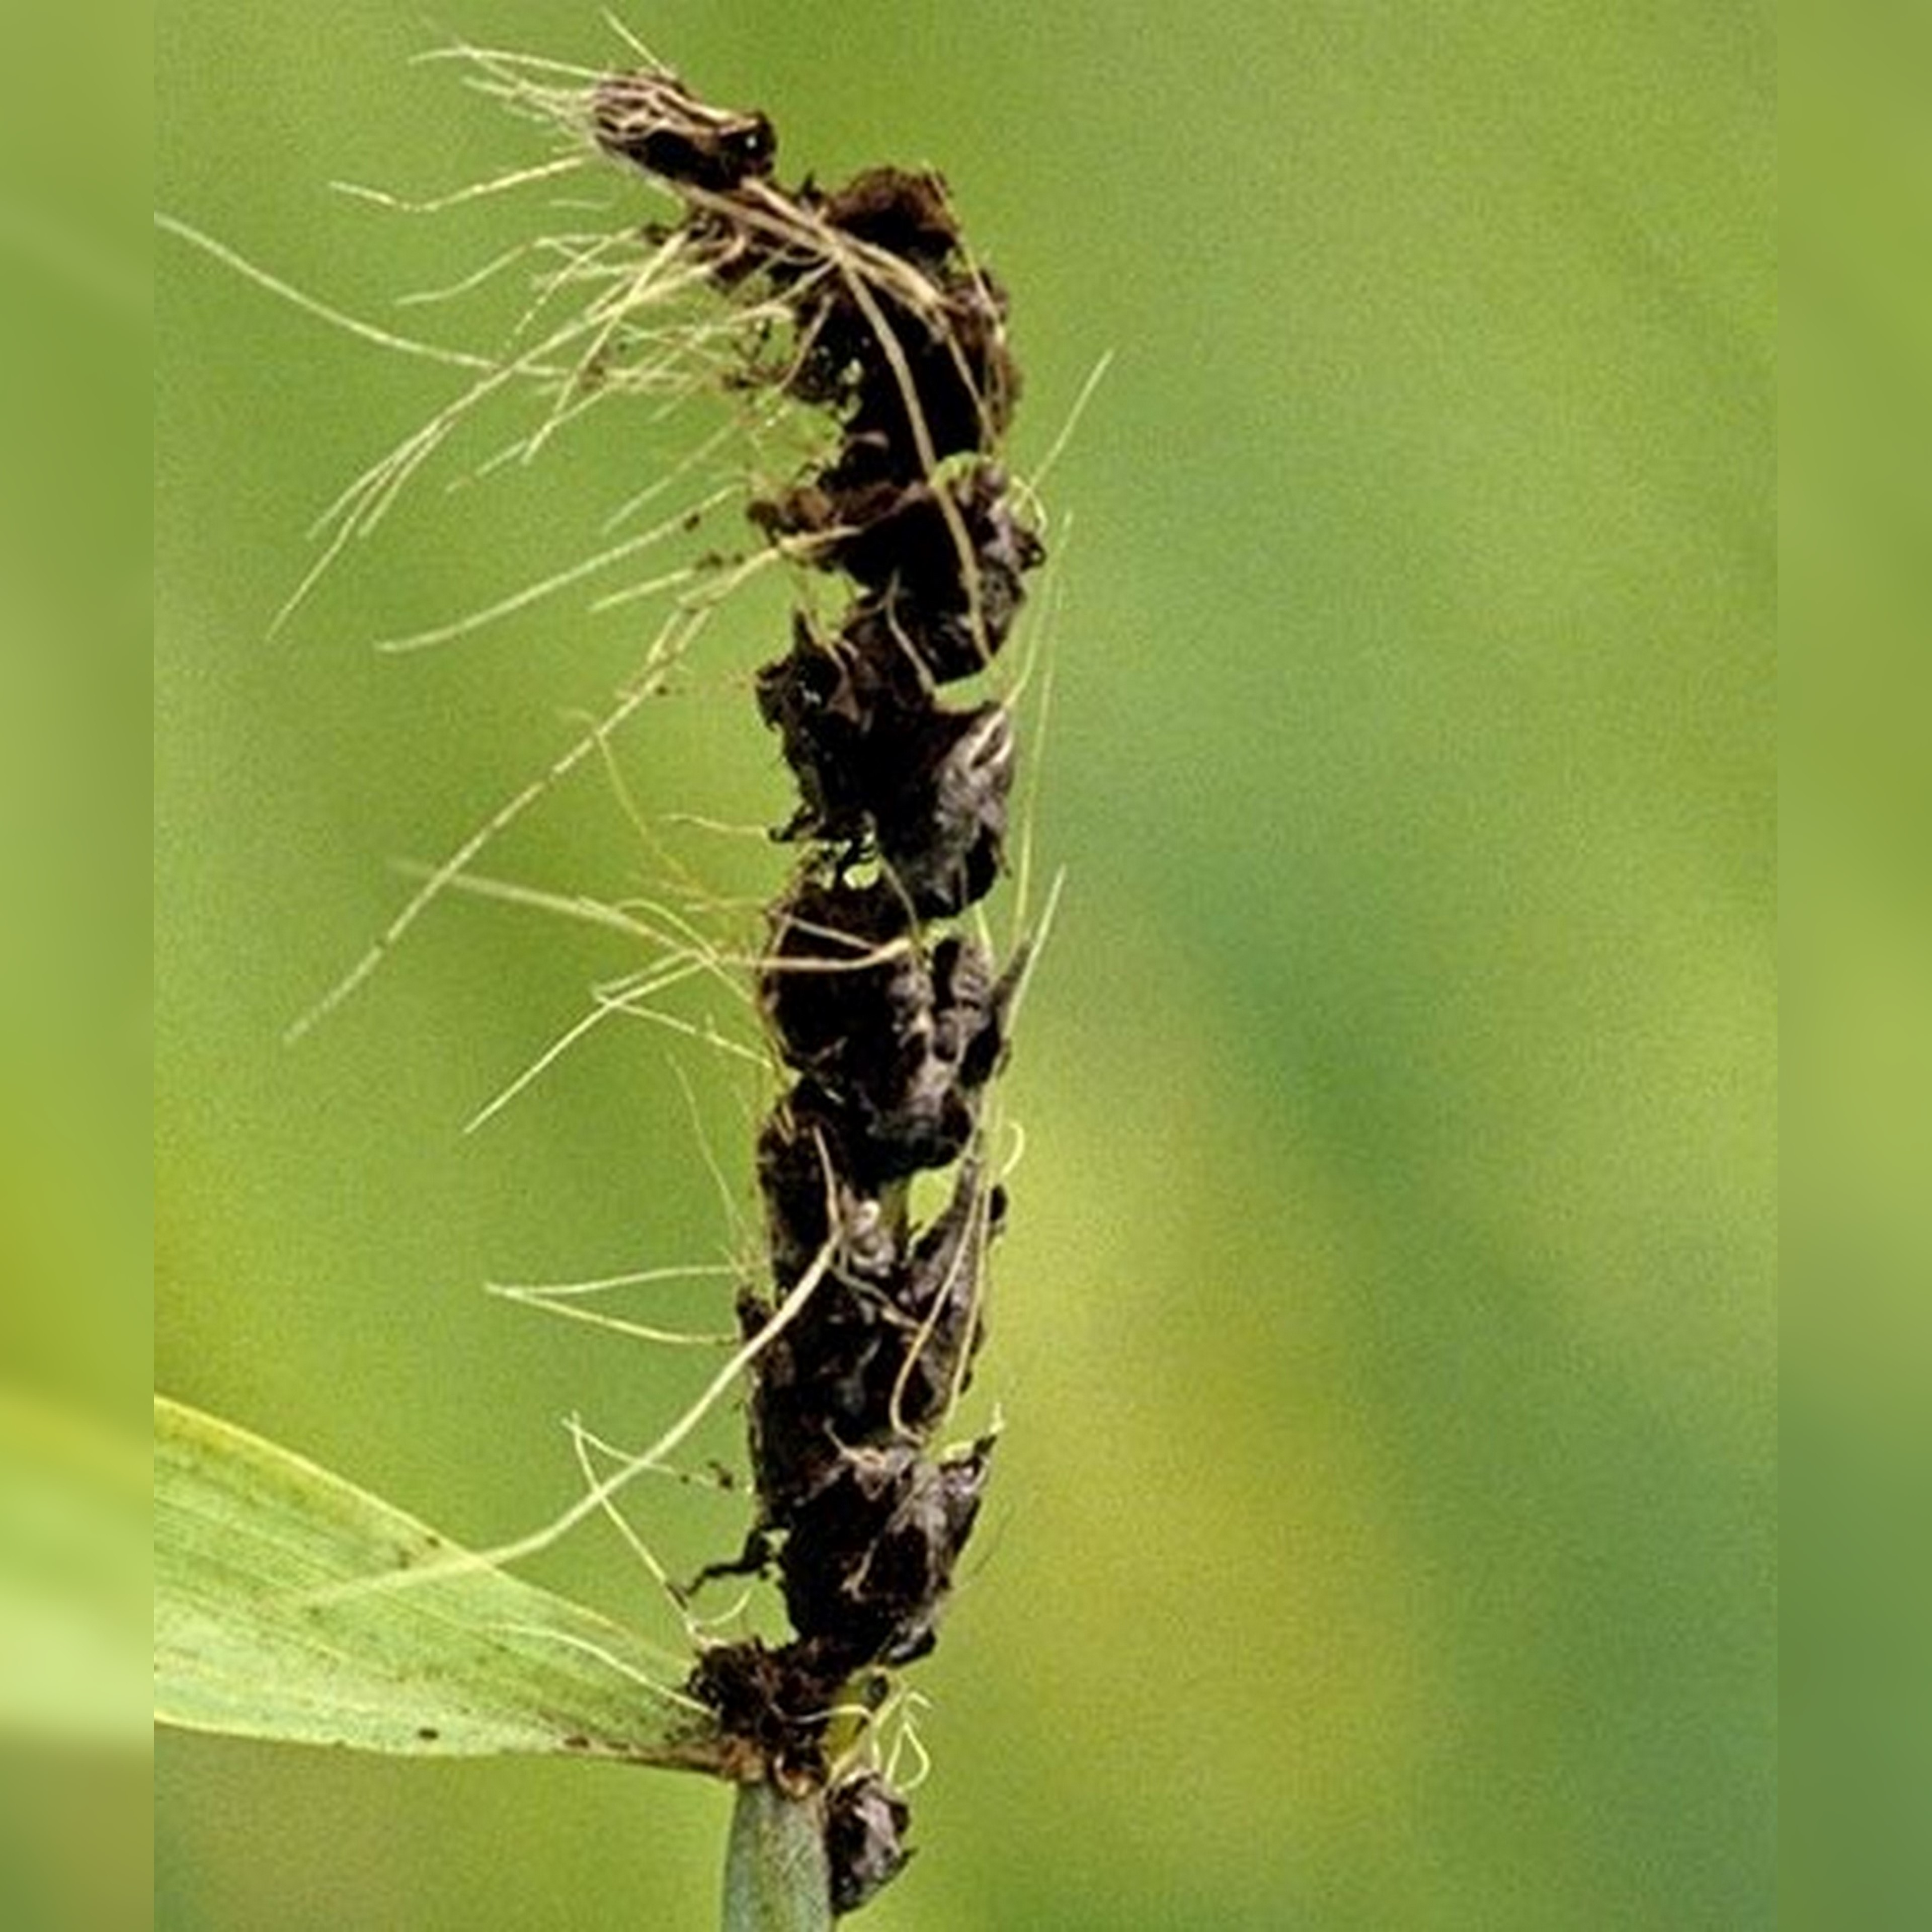Wheat Loose Smut: (379, 32, 1152, 1380)
